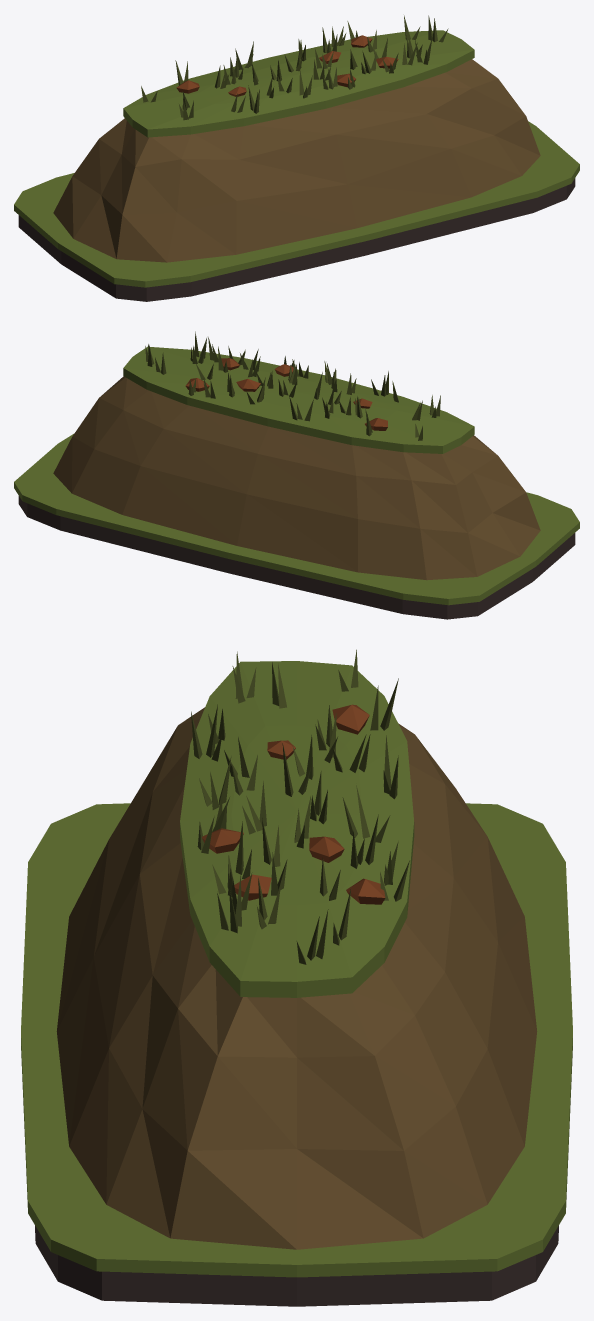
File: grave-mound-169ec3.glb
The picture shows the model from 3 angles, top to bottom: view 1: azimuth 30°, elevation 25°; view 2: azimuth 150°, elevation 25°; view 3: azimuth 270°, elevation 25°; orthographic projection. The views are drawn at different scales.
Parts seen in each view (by area): view 1: grave-mound-body; view 2: grave-mound-body; view 3: grave-mound-body.
Part boxes in pixels (x1,y1,x2,y2): grave-mound-body: [14, 15, 579, 301]; grave-mound-body: [14, 331, 579, 619]; grave-mound-body: [21, 649, 572, 1306].
Size of the model in its own units: 2 by 0.6247 by 1.
